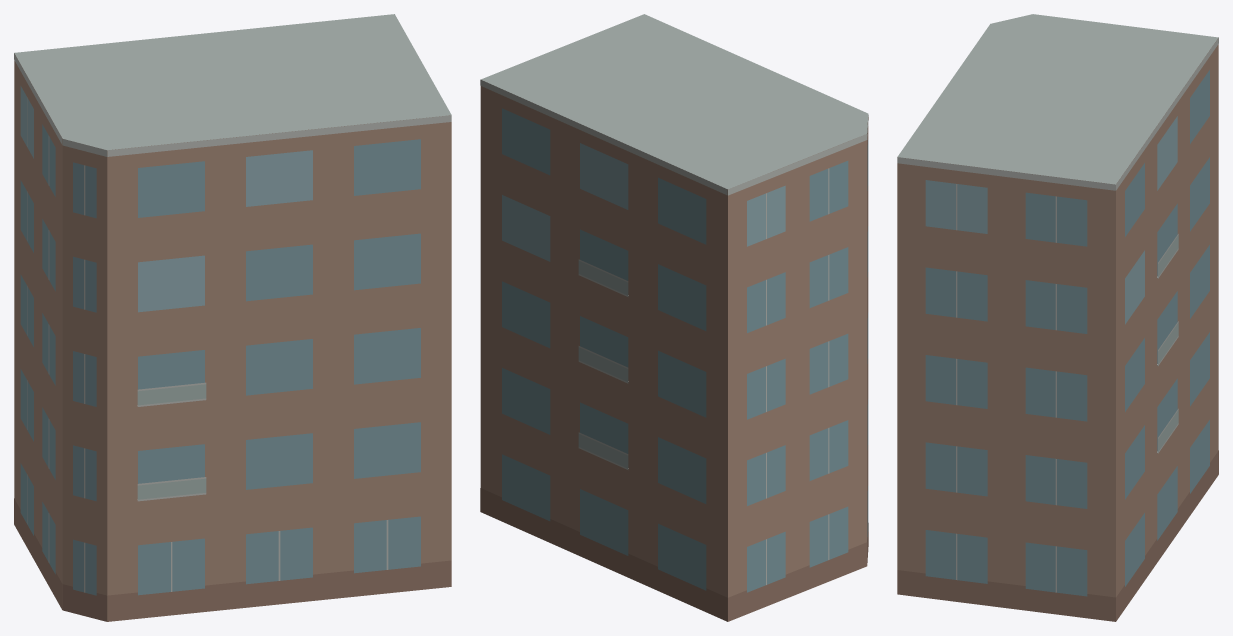
Rendered from survey-upis-32877548.glb.
3 renders of one model, left to right at view 1: azimuth 30°, elevation 25°; view 2: azimuth 150°, elevation 25°; view 3: azimuth 270°, elevation 25°, orthographic. The views are drawn at different scales.
Parts seen in each view (by area): view 1: survey-upis-32877548.tmp; view 2: survey-upis-32877548.tmp; view 3: survey-upis-32877548.tmp.
Part boxes in pixels (x1,y1,x2,y2): survey-upis-32877548.tmp: (14, 14, 451, 621); survey-upis-32877548.tmp: (480, 14, 868, 621); survey-upis-32877548.tmp: (897, 14, 1218, 621).
Size of the model in its own units: 14.27 by 17.05 by 11.37.
